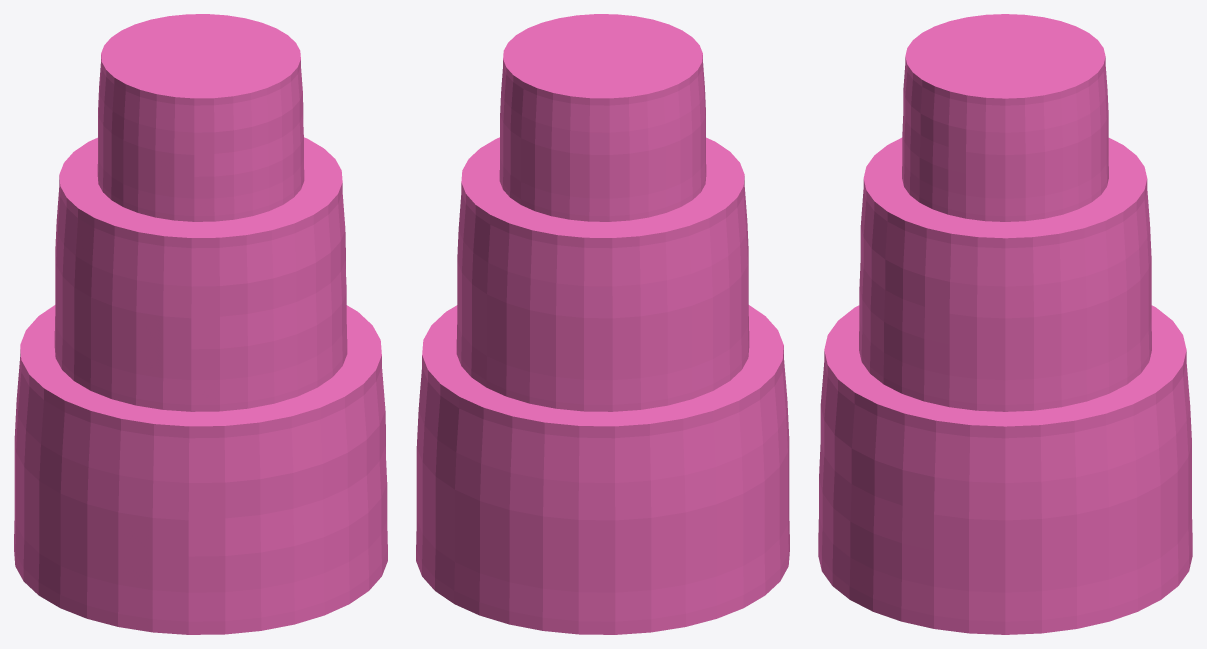
File: circleupgraded3.glb
3 views of the same model, side by side, from view 1: azimuth 30°, elevation 25°; view 2: azimuth 150°, elevation 25°; view 3: azimuth 270°, elevation 25° (orthographic).
Parts seen in each view (by area): view 1: Cylinder, Cylinder.001, Cylinder.002; view 2: Cylinder, Cylinder.001, Cylinder.002; view 3: Cylinder, Cylinder.001, Cylinder.002.
Part boxes in pixels (x1=…): Cylinder: x1=14, y1=305, x2=387, y2=634; Cylinder.001: x1=54, y1=137, x2=347, y2=411; Cylinder.002: x1=97, y1=14, x2=304, y2=221; Cylinder: x1=416, y1=305, x2=789, y2=634; Cylinder.001: x1=456, y1=137, x2=749, y2=411; Cylinder.002: x1=499, y1=14, x2=706, y2=221; Cylinder: x1=818, y1=305, x2=1192, y2=634; Cylinder.001: x1=859, y1=137, x2=1151, y2=411; Cylinder.002: x1=902, y1=14, x2=1108, y2=221.
Size of the model in its own units: 1.81 by 2.67 by 1.81.
